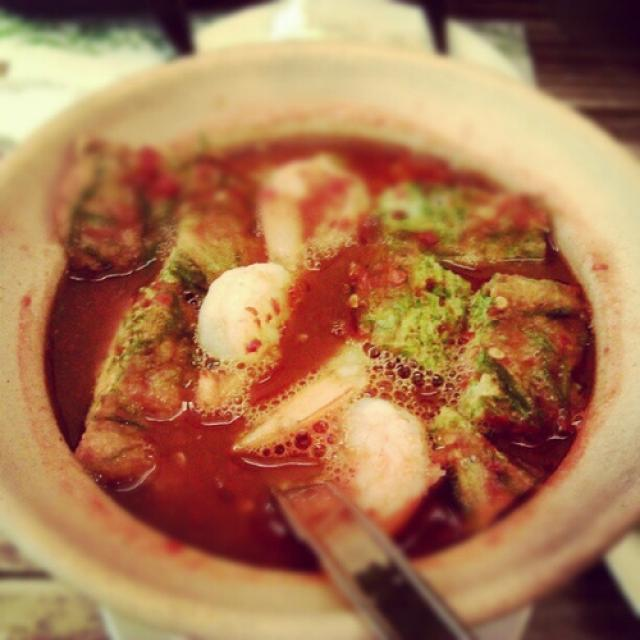汤锅炖物: (5, 37, 631, 597)
